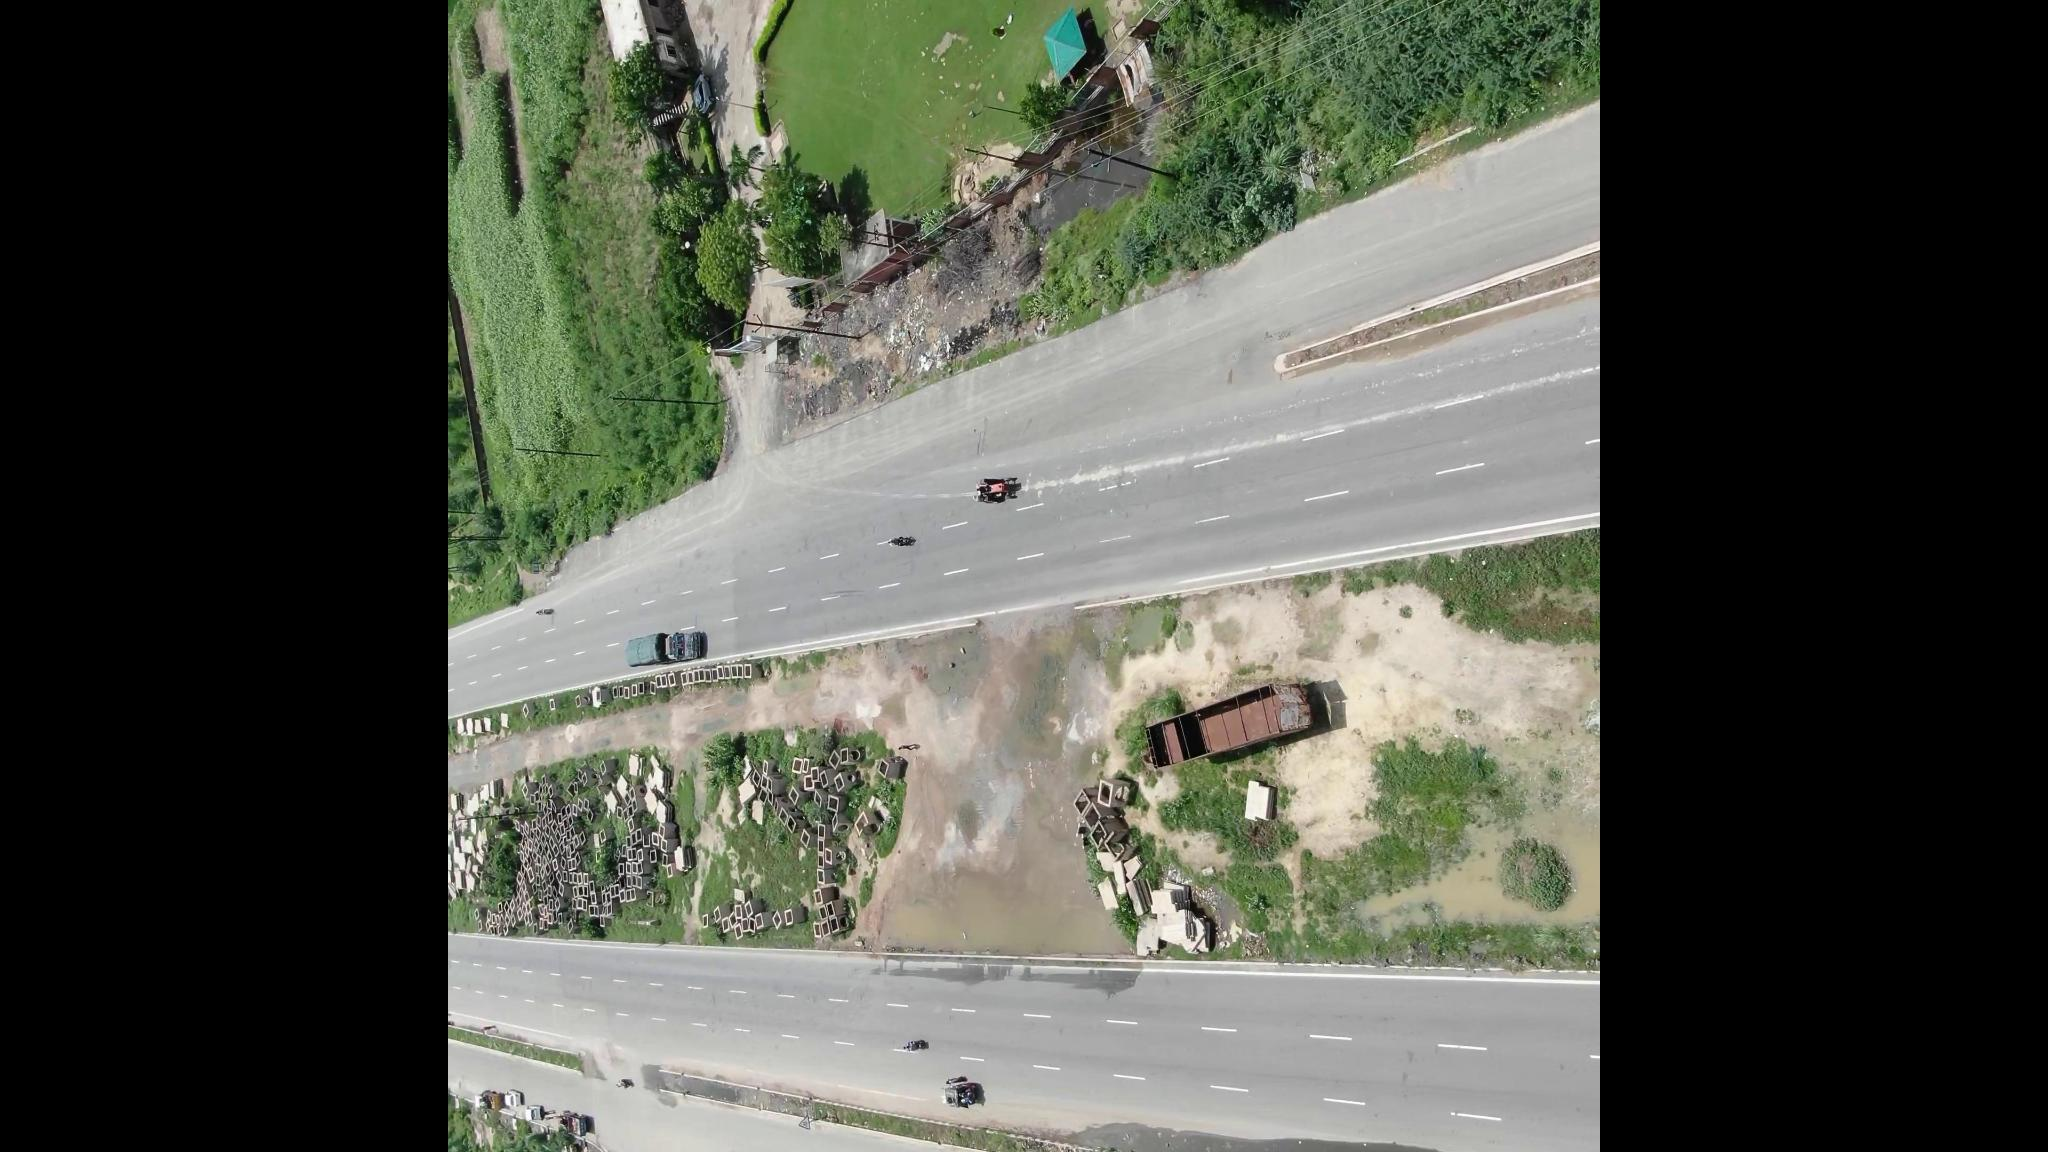Ravelling: (1038, 452, 1207, 492)
Waterlogging: (1139, 1135, 1528, 1152)
